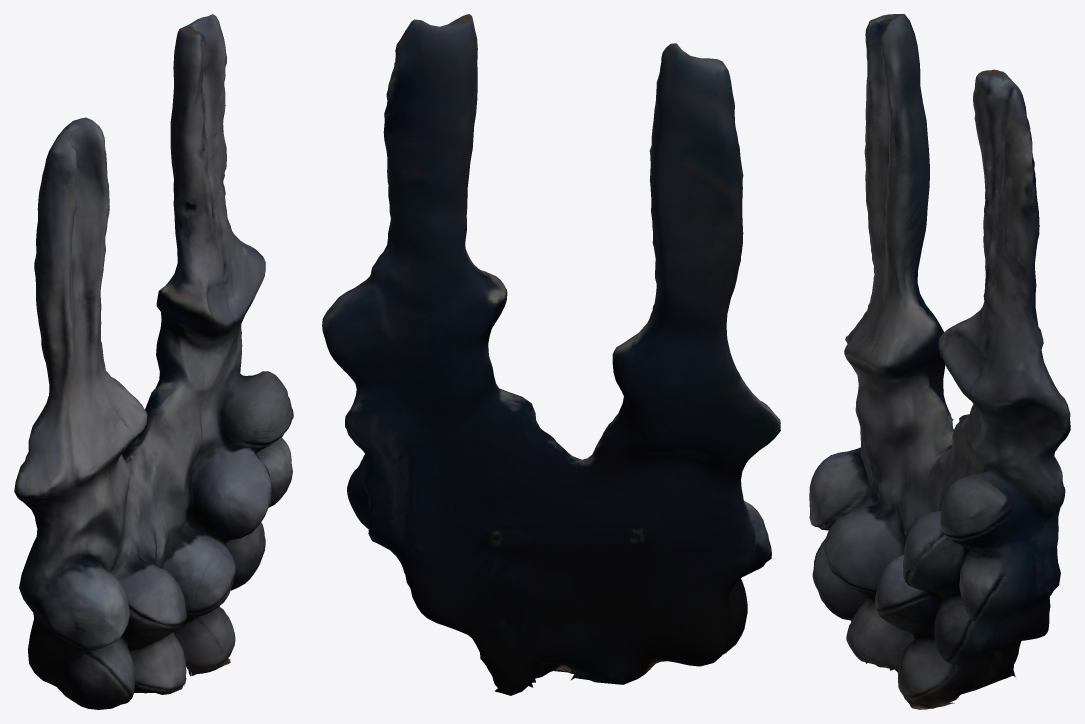
The model's file is Chest Plate.glb.
3 renders of one model, left to right at view 1: azimuth 30°, elevation 25°; view 2: azimuth 150°, elevation 25°; view 3: azimuth 270°, elevation 25°, orthographic. The views are drawn at different scales.
Visible parts, largest first — view 1: 3DModel; view 2: 3DModel; view 3: 3DModel.
Boxes of the visible parts, x1,y1,x2,y2 form: 3DModel: (14, 14, 293, 709); 3DModel: (322, 14, 780, 695); 3DModel: (809, 14, 1070, 709).
Size of the model in its own units: 0.2205 by 0.3829 by 0.1431.
1 material, 1 textured.
